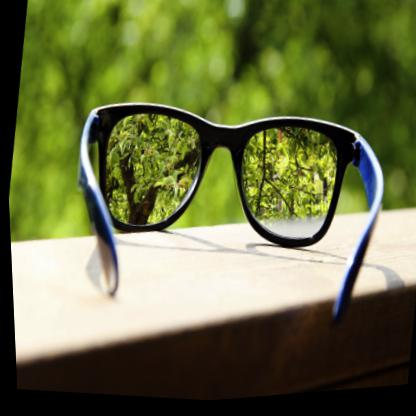Spectacles: (61, 81, 398, 290)
